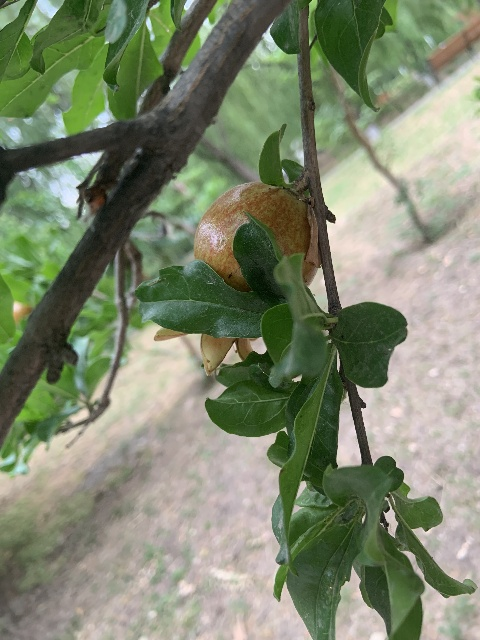early-fruit: (152, 180, 320, 376)
